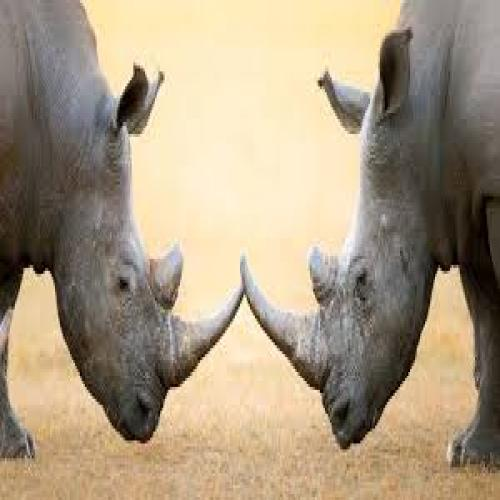rhino-endangered: (241, 0, 500, 462), (0, 0, 241, 446)
